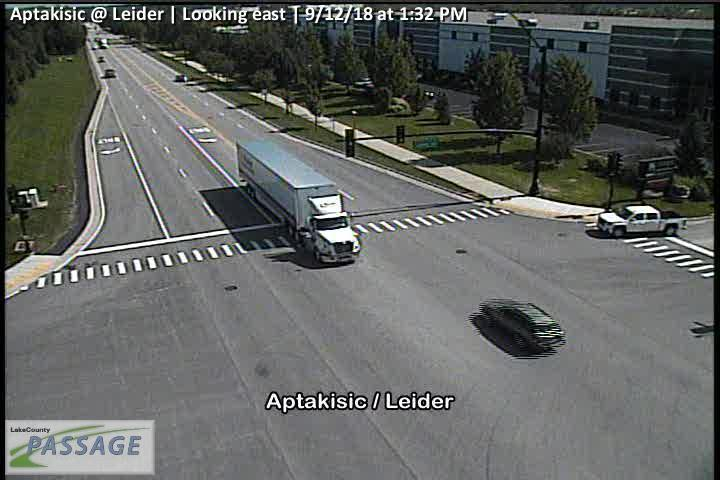SUV: (478, 298, 565, 351)
Truck: (237, 139, 362, 266), (596, 204, 686, 239)
